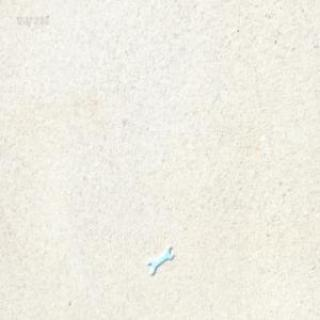Wrenchtrack_idkeyframe: (148, 244, 174, 275)
